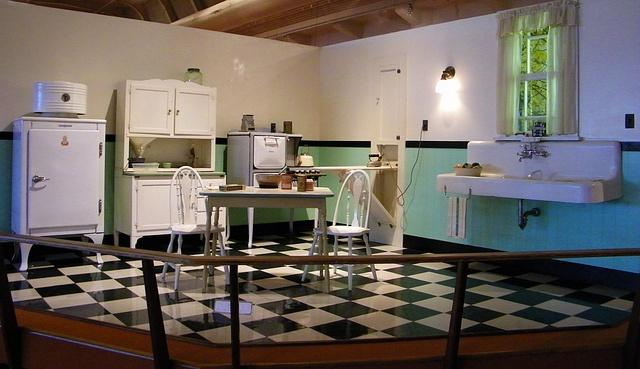Kursi: (300, 169, 378, 290), (161, 165, 229, 293)
Meja: (197, 185, 334, 232)
